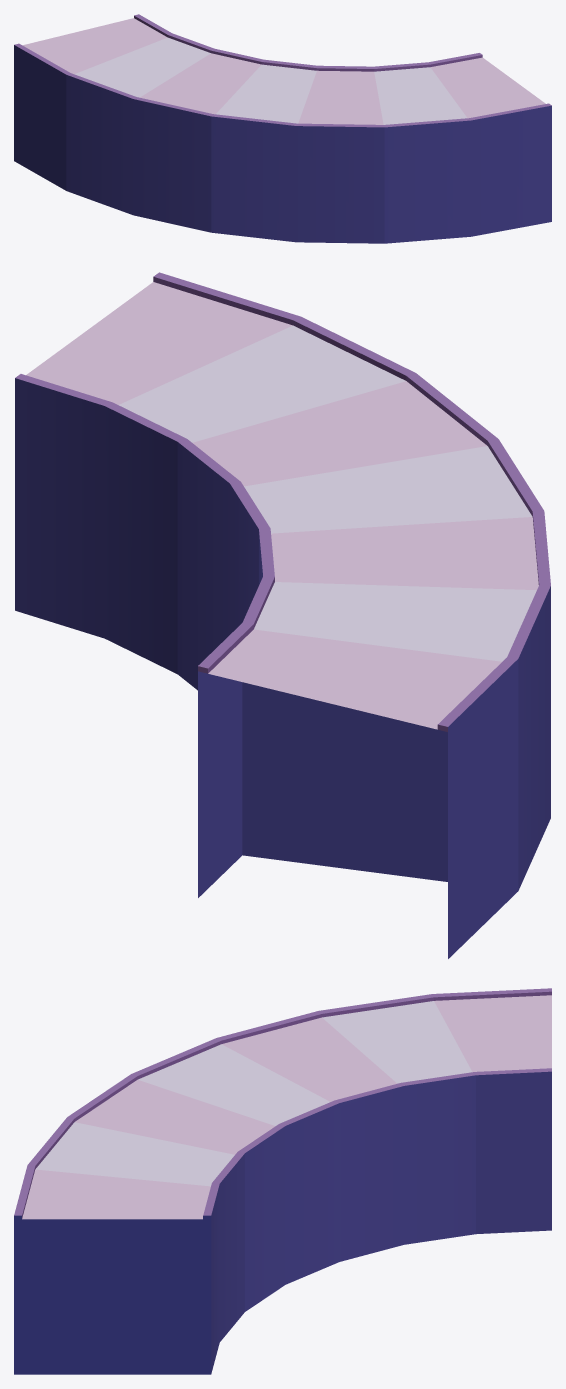
File: Road_03.FBX
3 renders of one model, top to bottom at view 1: azimuth 30°, elevation 25°; view 2: azimuth 150°, elevation 25°; view 3: azimuth 270°, elevation 25°, orthographic. The views are drawn at different scales.
Visible parts, largest first — view 1: Road_03; view 2: Road_03; view 3: Road_03.
Part boxes in pixels (<box>): Road_03: <box>14,14,551,243</box>; Road_03: <box>15,272,550,958</box>; Road_03: <box>14,988,551,1374</box>.
Size of the model in its own units: 1372 by 1372 by 447.
Materials: 2 (2 with a texture image).
